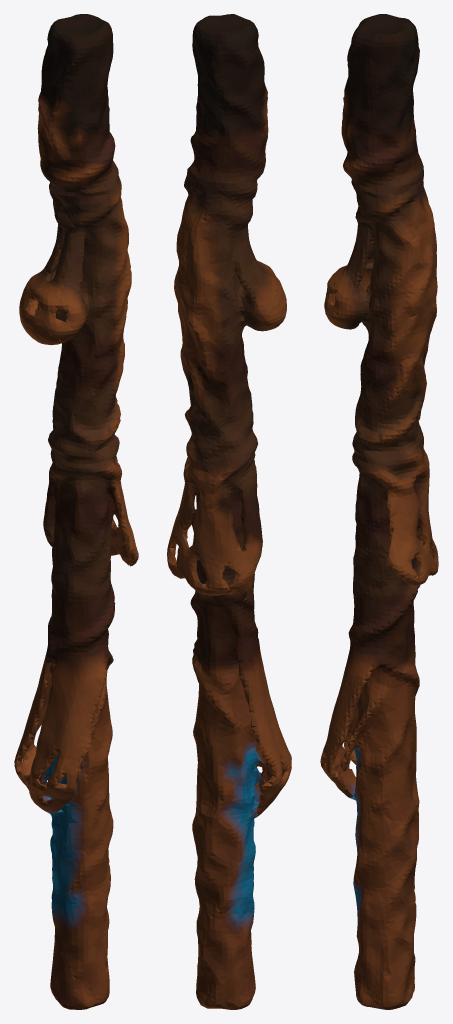
File: bastao.glb
3 renders of one model, left to right at view 1: azimuth 30°, elevation 25°; view 2: azimuth 210°, elevation 25°; view 3: azimuth 330°, elevation 25°, orthographic.
Visible parts, largest first — view 1: tmp1s1cn7di.ply; view 2: tmp1s1cn7di.ply; view 3: tmp1s1cn7di.ply.
Part boxes in pixels (x1=…): tmp1s1cn7di.ply: x1=14, y1=14, x2=138, y2=1009; tmp1s1cn7di.ply: x1=167, y1=14, x2=291, y2=1009; tmp1s1cn7di.ply: x1=320, y1=14, x2=438, y2=1009.
Size of the model in its own units: 0.2112 by 1.96 by 0.2025.
